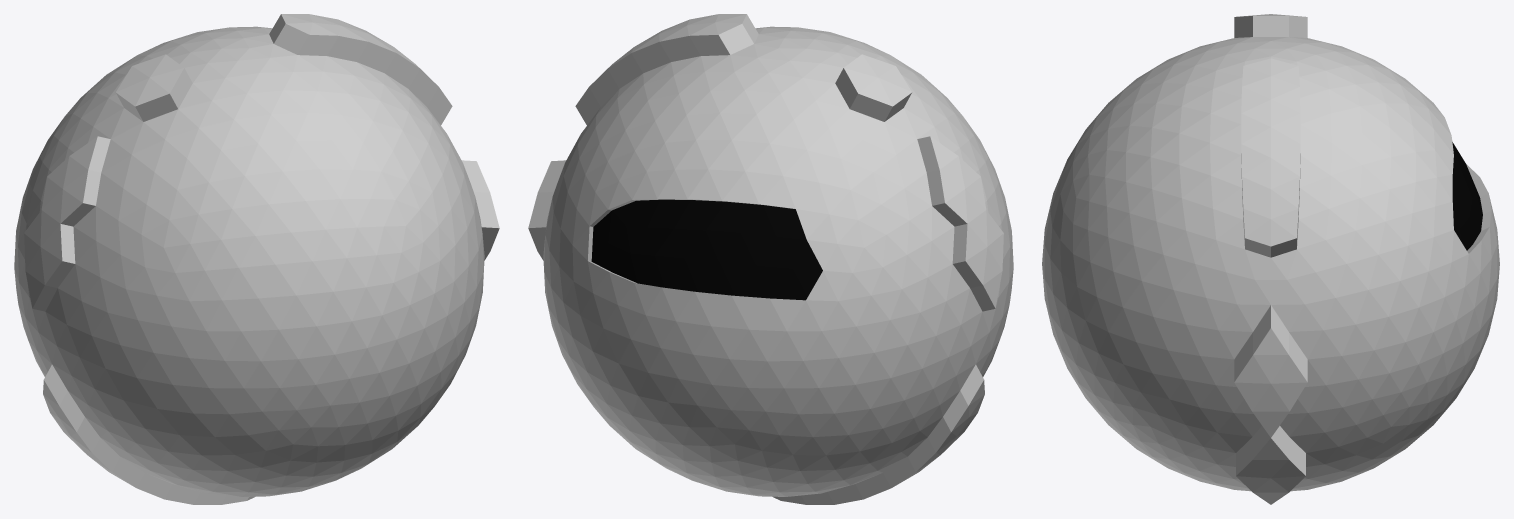
File: abstractglass3.fbx
3 renders of one model, left to right at view 1: azimuth 30°, elevation 25°; view 2: azimuth 150°, elevation 25°; view 3: azimuth 270°, elevation 25°, orthographic. The views are drawn at different scales.
Visible parts, largest first — view 1: Icosphere; view 2: Icosphere; view 3: Icosphere.
Boxes of the visible parts, left/top/right/bottom form: Icosphere: left=14, top=14, right=499, bottom=504; Icosphere: left=528, top=14, right=1013, bottom=504; Icosphere: left=1042, top=14, right=1499, bottom=504.
Bounding box in the file's own units: 1267 × 1225 × 1146.
